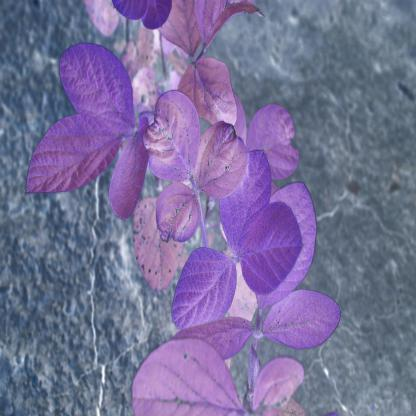Soyabean leaf: (24, 110, 124, 196), (58, 42, 138, 134), (239, 200, 304, 298), (217, 148, 272, 256), (170, 249, 235, 332), (262, 288, 340, 350), (107, 124, 153, 224), (171, 314, 254, 361)
